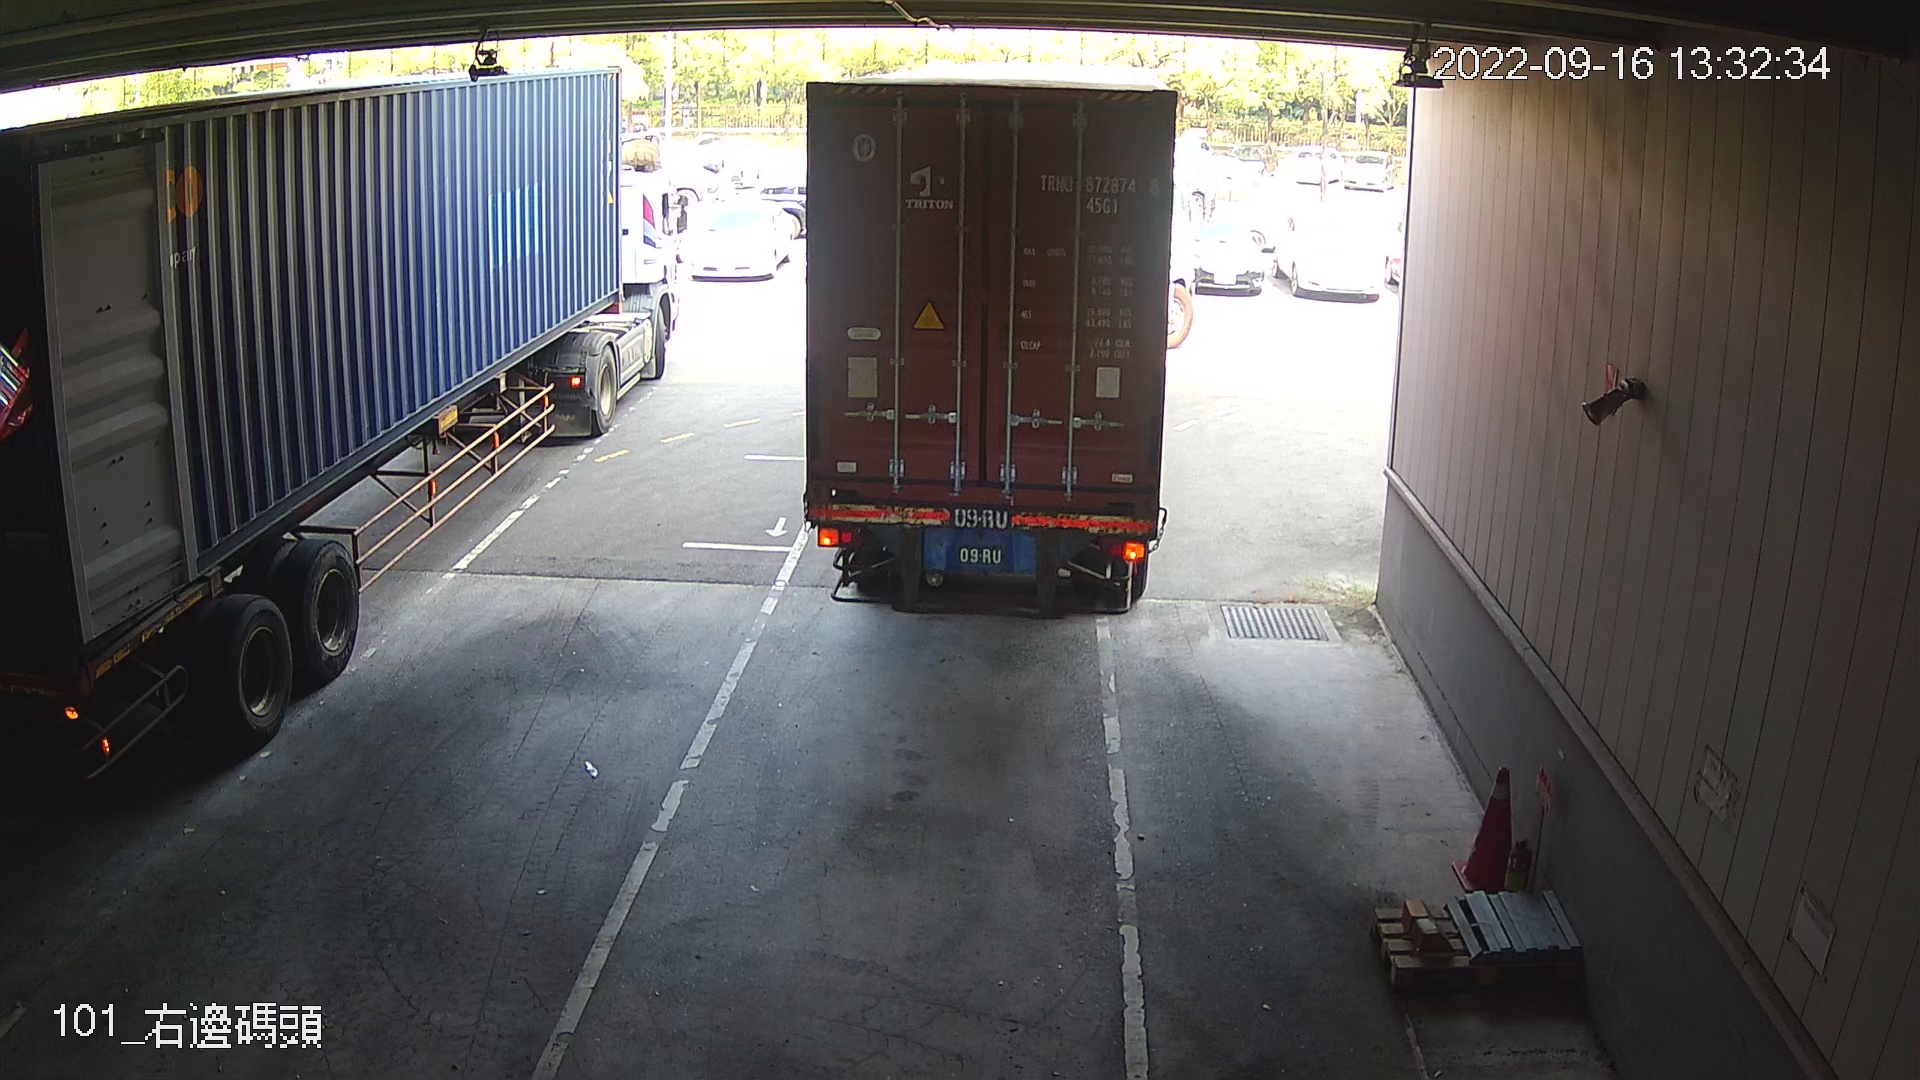container: (1034, 162, 1167, 223)
